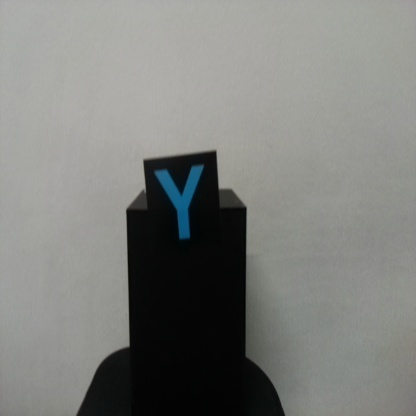id_14: (143, 158, 219, 246)
